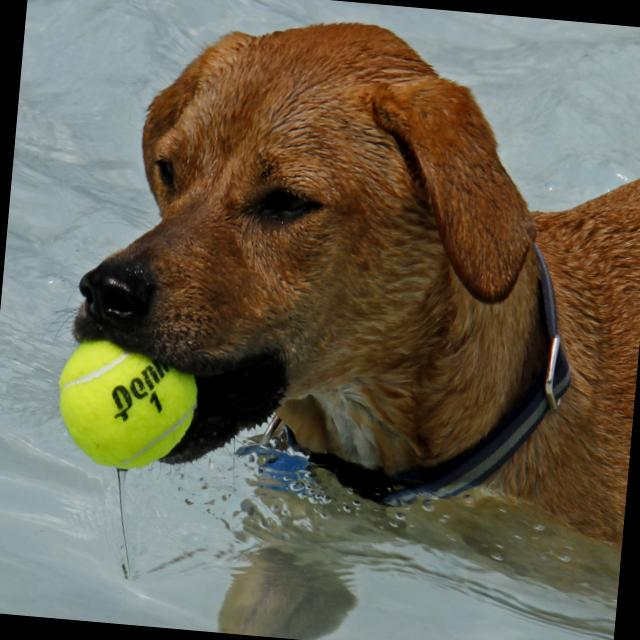Tennis ball: (49, 334, 201, 474)
